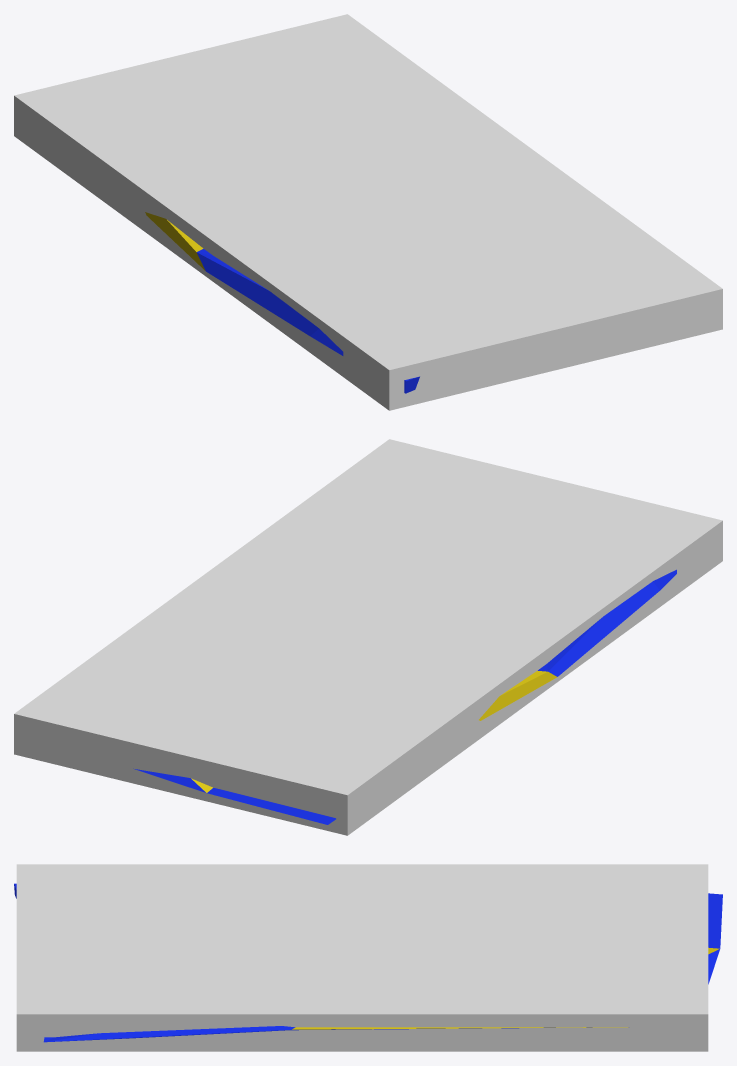
File: Beach Towel 5.glb
3 renders of one model, top to bottom at view 1: azimuth 30°, elevation 25°; view 2: azimuth 150°, elevation 25°; view 3: azimuth 270°, elevation 25°, orthographic. The views are drawn at different scales.
Visible parts, largest first — view 1: colonly_Towel 5, Towel 5; view 2: colonly_Towel 5, Towel 5; view 3: colonly_Towel 5, Towel 5.
Part boxes in pixels (x1,y1,x2,y2): colonly_Towel 5: (14,14,722,410); Towel 5: (145,212,419,393); colonly_Towel 5: (14,439,722,835); Towel 5: (133,569,676,824); colonly_Towel 5: (16,864,708,1051); Towel 5: (14,883,722,1042).
Size of the model in its own units: 1.07 by 0.1179 by 2.03.
